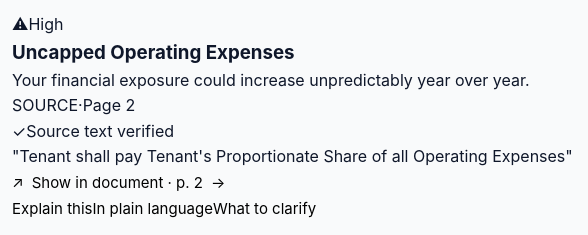
Test case: AttentionItemCard — evidence states › displays non-color feedback "Shown on page 2" after user clicks Show in document
The image size is (588, 235).
Click the button with test id "show-evidence-btn-ai-test-1" at (119, 182), box [12,173,225,192]
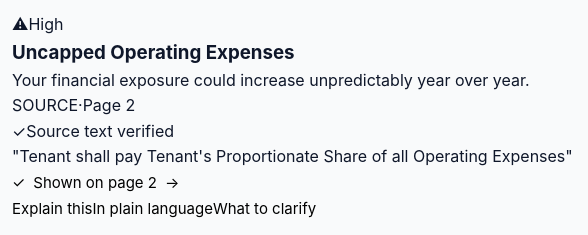
Expected: the button with test id "show-evidence-btn-ai-test-1" shows "Shown on page 2", [12,173,179,192]
Expected: the button with test id "show-evidence-btn-ai-test-1" shows "✓", [12,173,179,192]
